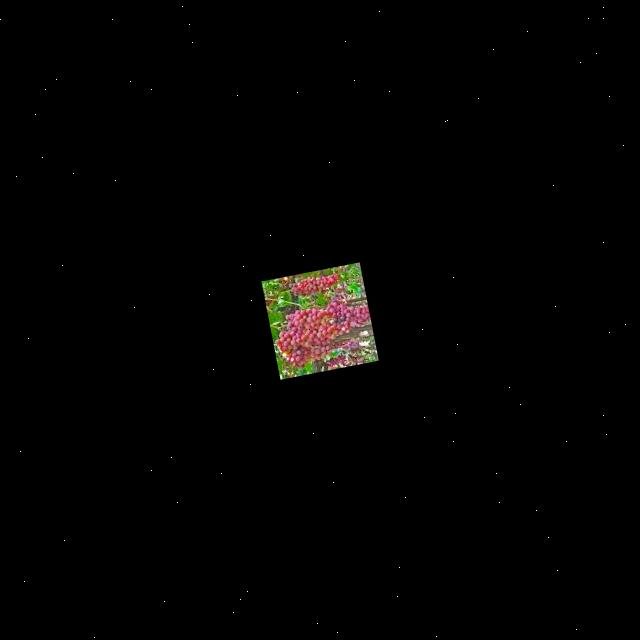grape: (268, 288, 376, 370), (288, 270, 340, 300)
